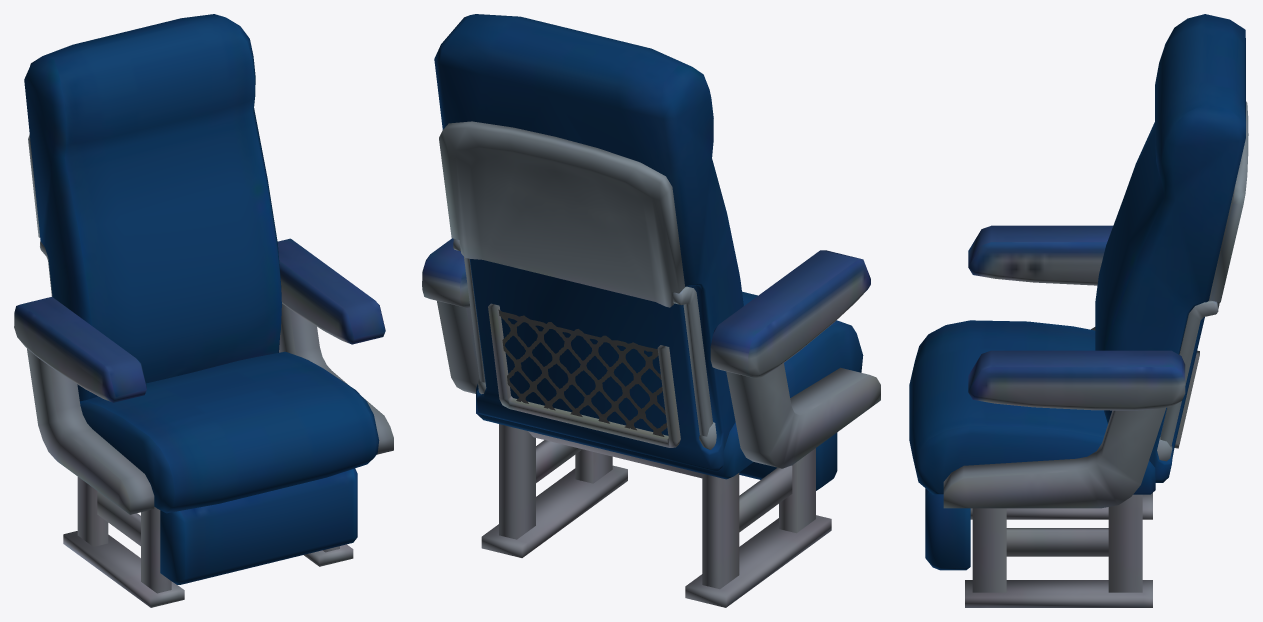
The picture shows the model from 3 angles, left to right: view 1: azimuth 30°, elevation 25°; view 2: azimuth 150°, elevation 25°; view 3: azimuth 270°, elevation 25°; orthographic projection. The views are drawn at different scales.
Bounding box in the file's own units: 9.55 × 15.39 × 9.46.
1 material, 1 textured.
